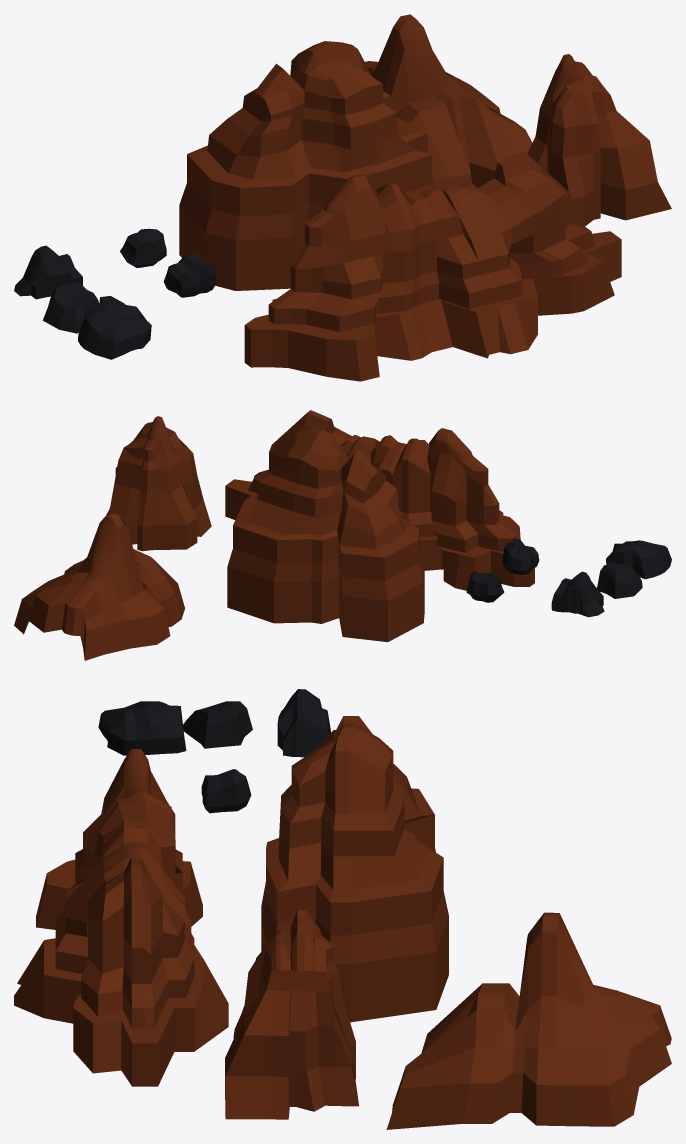
The model's file is Mountains_Rocks.FBX.
3 renders of one model, top to bottom at view 1: azimuth 30°, elevation 25°; view 2: azimuth 150°, elevation 25°; view 3: azimuth 270°, elevation 25°, orthographic. The views are drawn at different scales.
Visible parts, largest first — view 1: Plane004, Object002, Object001, Object003, Object005, Object004, Object006, Object007, Object008; view 2: Object002, Plane004, Object003, Object001, Object005, Object004, Object006, Object007, Object008; view 3: Plane004, Object002, Object003, Object001, Object005, Object004, Object006, Object007.
Boxes of the visible parts, <box> form: Plane004: <box>244,151,621,381</box>; Object002: <box>179,41,434,290</box>; Object001: <box>527,54,671,226</box>; Object003: <box>365,14,532,190</box>; Object005: <box>78,296,151,359</box>; Object004: <box>14,245,82,299</box>; Object006: <box>43,282,99,333</box>; Object007: <box>163,253,216,297</box>; Object008: <box>120,228,166,267</box>; Object002: <box>227,428,424,642</box>; Plane004: <box>225,410,534,590</box>; Object003: <box>14,512,184,660</box>; Object001: <box>106,416,211,551</box>; Object005: <box>606,540,671,579</box>; Object004: <box>551,571,604,617</box>; Object006: <box>597,562,642,598</box>; Object007: <box>502,538,539,574</box>; Object008: <box>466,571,504,602</box>; Plane004: <box>14,749,228,1086</box>; Object002: <box>261,716,448,1022</box>; Object003: <box>386,912,671,1129</box>; Object001: <box>225,909,358,1119</box>; Object005: <box>98,701,186,755</box>; Object004: <box>277,689,330,757</box>; Object006: <box>183,701,252,748</box>; Object007: <box>201,769,251,813</box>.
Bounding box in the file's own units: 1900 × 667 × 1498.
